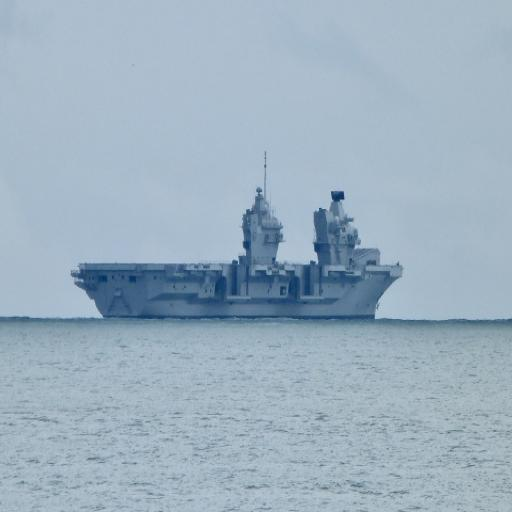Portanaves: (68, 145, 411, 322)
